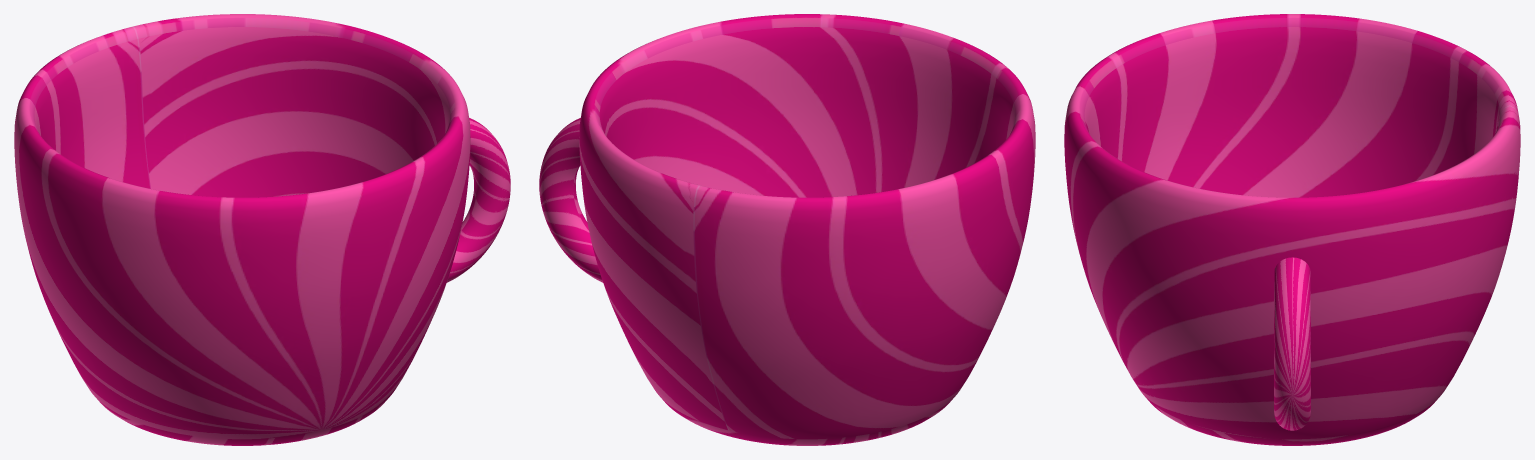
File: cup.glb
3 renders of one model, left to right at view 1: azimuth 30°, elevation 25°; view 2: azimuth 150°, elevation 25°; view 3: azimuth 270°, elevation 25°, orthographic.
Visible parts, largest first — view 1: Cup, Torus; view 2: Cup, Torus; view 3: Cup, Torus.
Part boxes in pixels (<box>): Cup: <box>14,14,470,445</box>; Torus: <box>446,118,510,282</box>; Cup: <box>579,14,1035,445</box>; Torus: <box>539,118,603,282</box>; Cup: <box>1064,14,1520,445</box>; Torus: <box>1274,257,1310,430</box>.
Bounding box in the file's own units: 2.13 × 1.23 × 1.82.
1 material, 1 textured.
